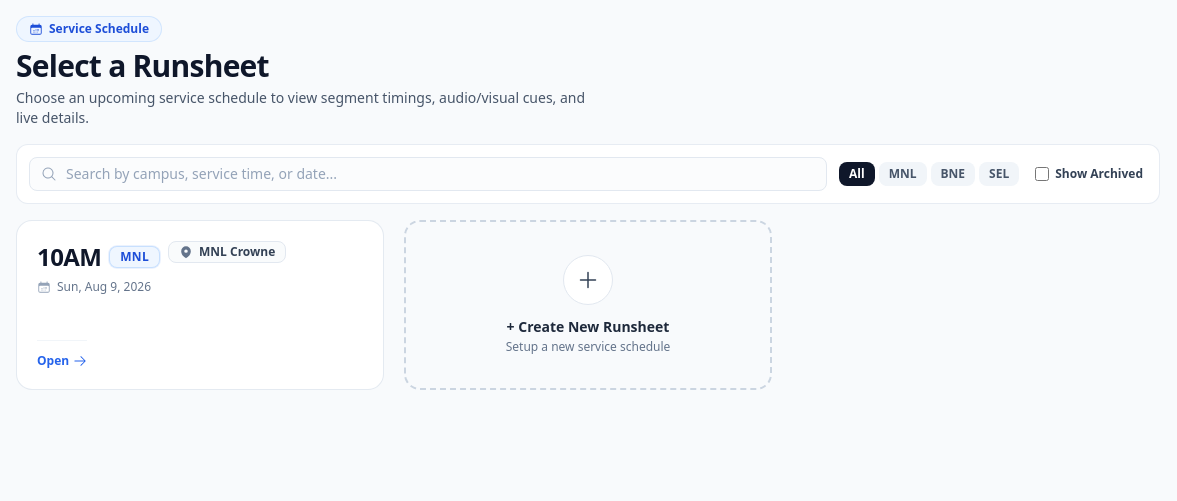
Test: RunsheetLandingView › campus scope › names the campus when the switcher filters every runsheet out
Click the button "SEL": x=999, y=174 [979,162,1019,186]
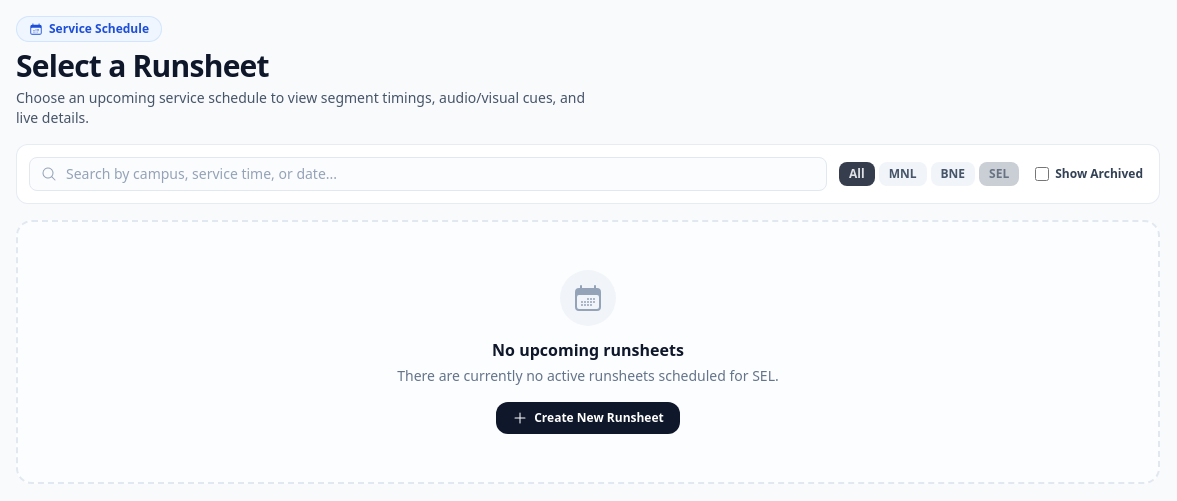
expect the text "There are currently no active runsheets scheduled for SEL." is shown: met, box [397,366,779,386]
